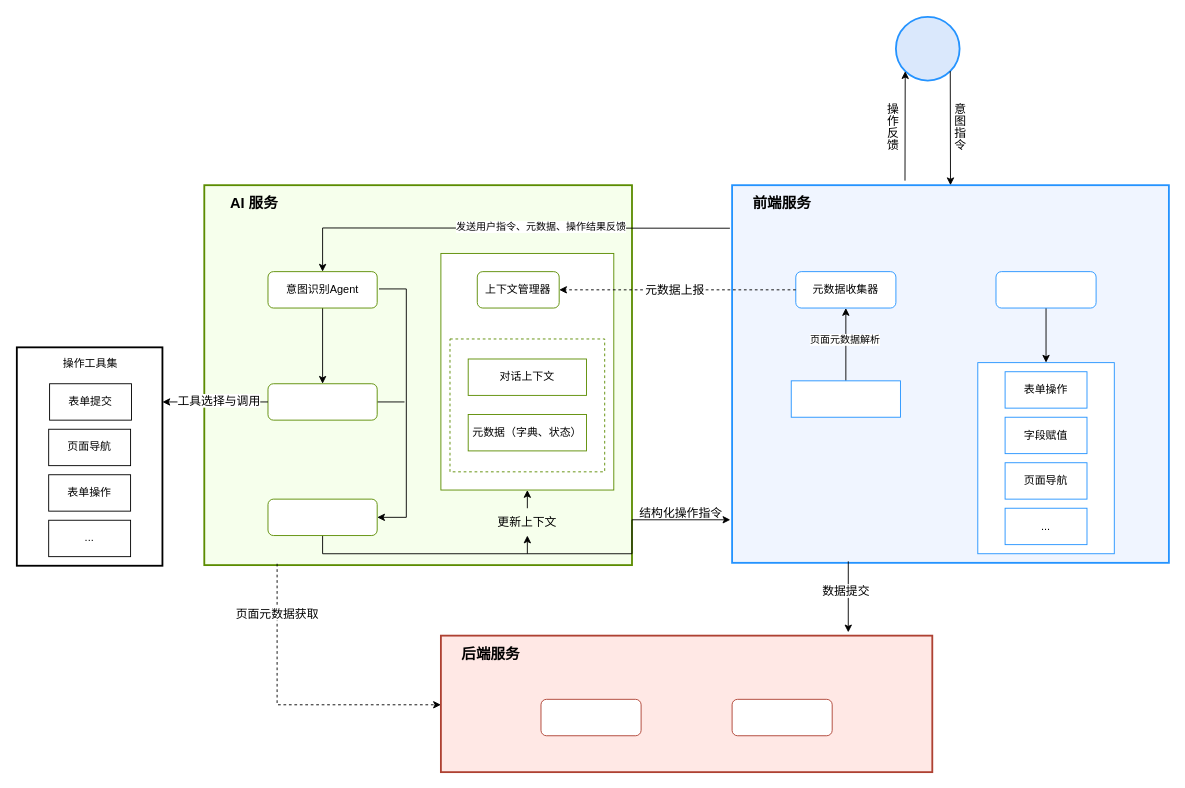
Some shapes in this 1185 by 788 pixel diagram are drawn without their labels. Each missing label, with the centre of its shape:
"字典数据" goes at pixel 590 717.
"指令、反馈响应" goes at pixel 322 517.
"操作Agent" goes at pixel 322 401.
"操作执行引擎" goes at pixel 1045 289.
"用户" goes at pixel 927 48.
"页面Schema" goes at pixel 781 717.
"页面、表单、表格" goes at pixel 845 398.
